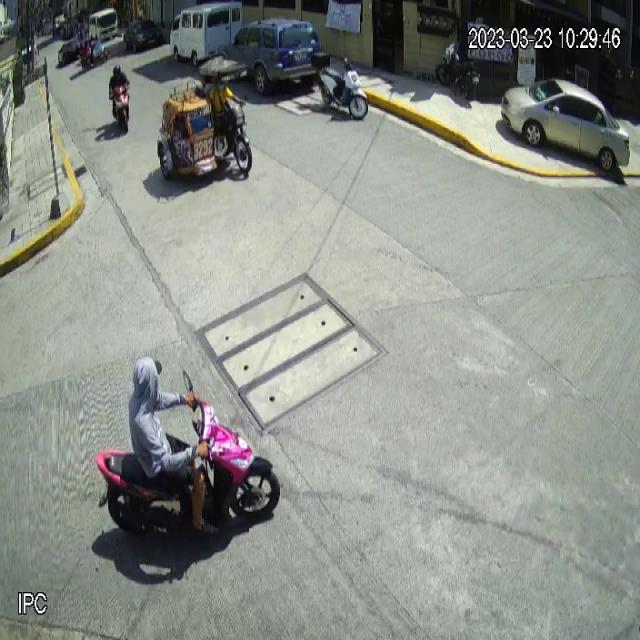Car: (501, 76, 631, 172), (217, 18, 323, 95)
Motorcycle: (94, 371, 281, 543), (311, 50, 368, 120), (109, 78, 131, 134)
Tricycle: (156, 56, 252, 180)
Van: (169, 1, 243, 68)
